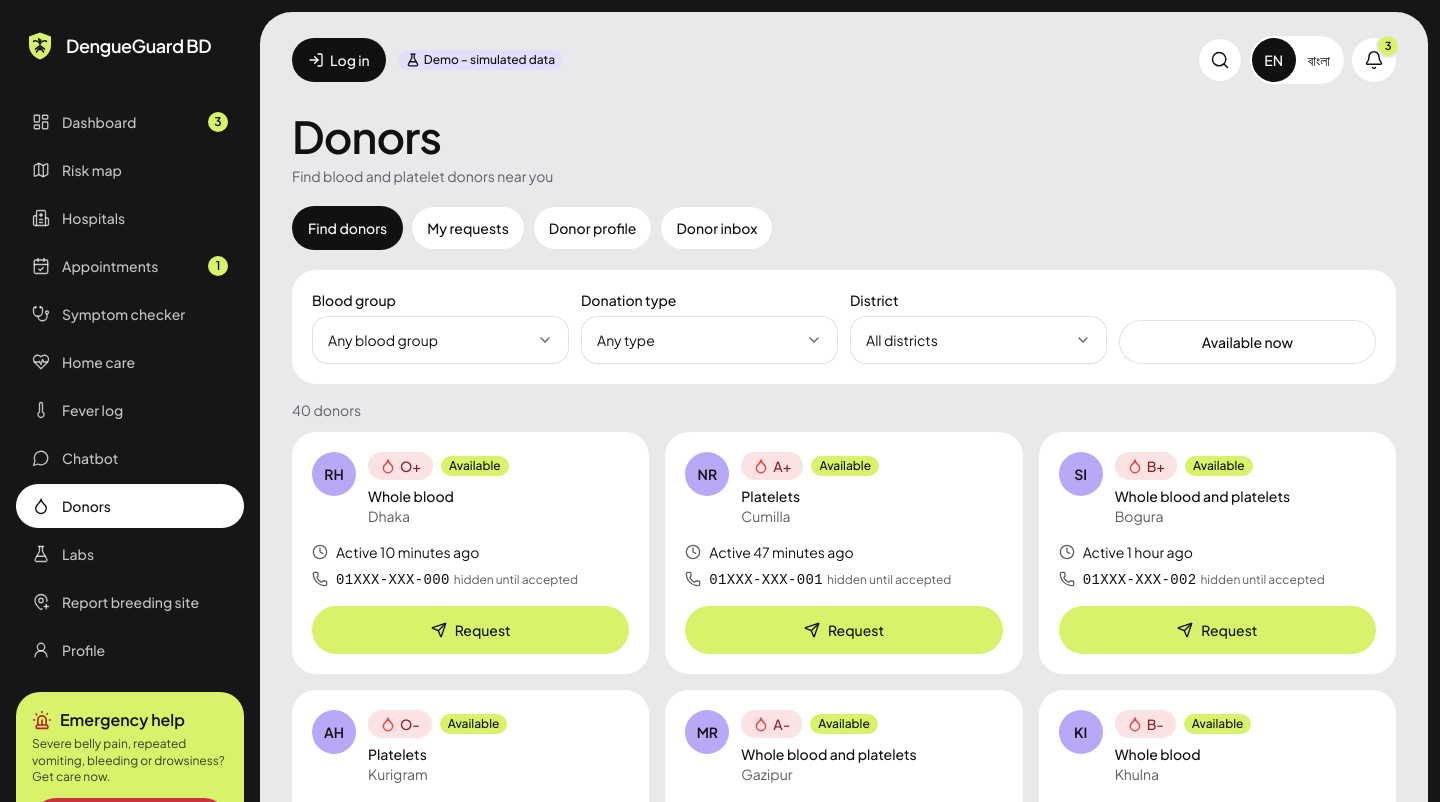
Test: Find a donor (/donors) › guests must log in before requesting
The width and height of the screenshot is (1440, 802).
Click the button "Request" below "01XXX-XXX-000" at coordinates (471, 630), box [312,606,629,654]
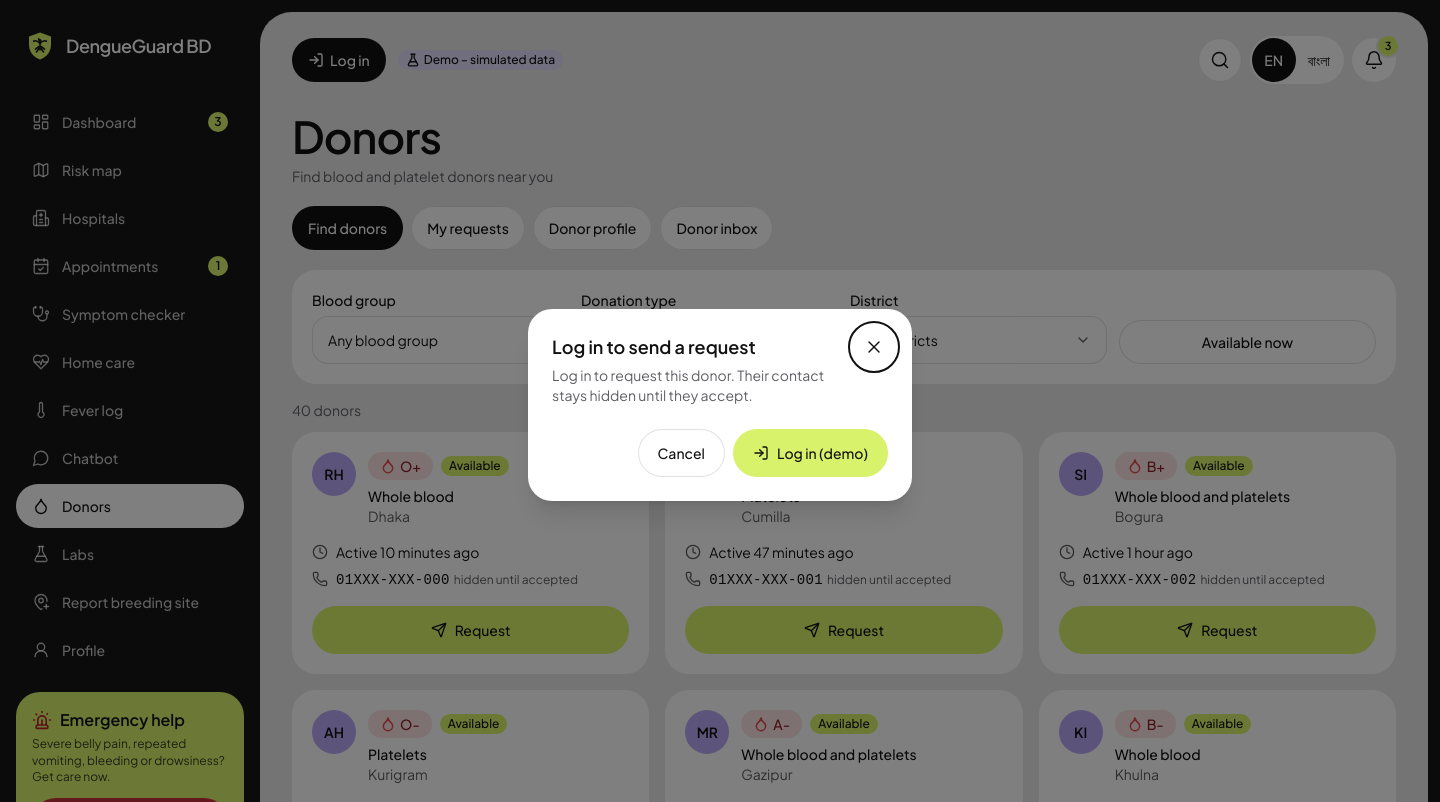
Now the dialog "Log in to send a request" is shown, box [528,309,912,501]
